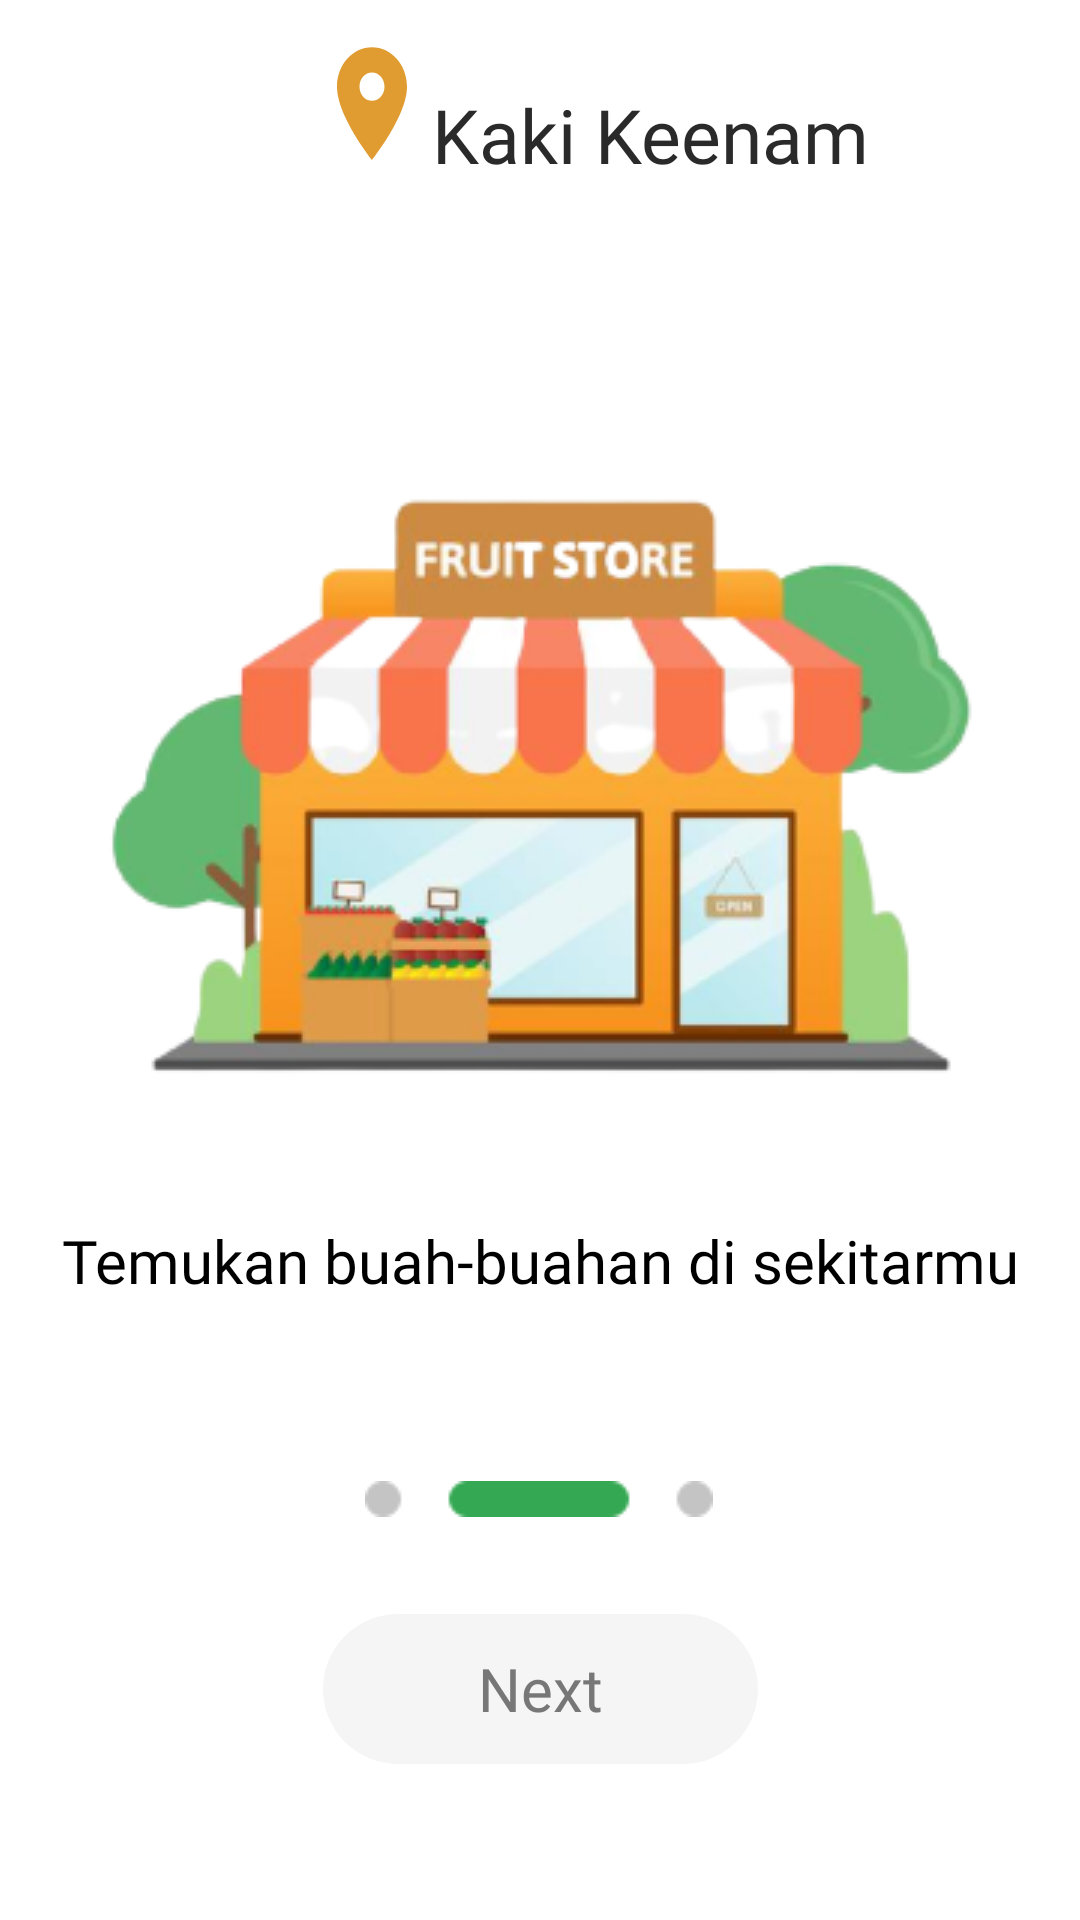

Point at icon controls on the screen. Image size 1080*1920, points as [x,y].
location: [372,103]
